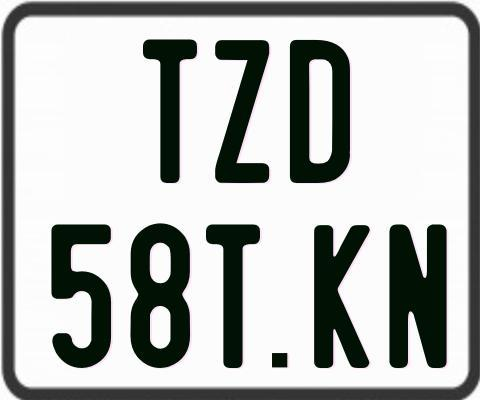5: (49, 225, 114, 371)
8: (127, 223, 193, 372)
D: (287, 39, 347, 186)
K: (311, 225, 369, 370)
N: (386, 224, 449, 373)
T: (203, 223, 260, 372), (142, 40, 198, 187)
Z: (214, 39, 269, 182)
